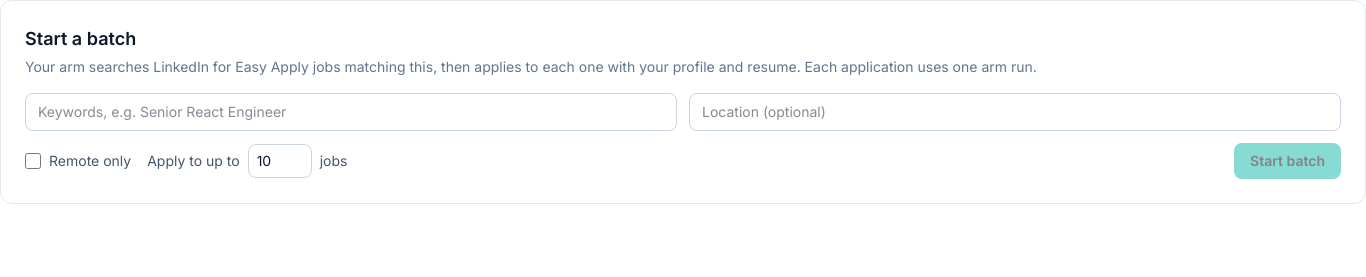
it: starting a batch › falls back to a generic message when the refusal has no hint (or no reply)
Type "react engineer" into the field named "Search keywords" at (351, 112), box [25, 93, 677, 131]
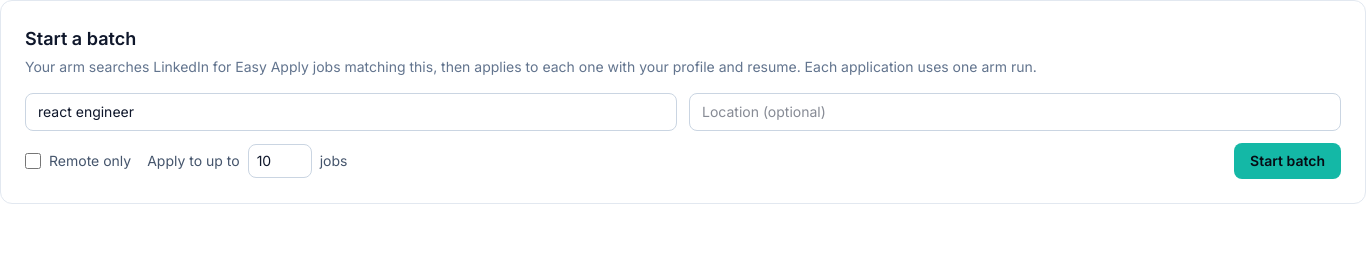
Click the button "Start batch" at (1288, 161), box [1234, 143, 1341, 179]
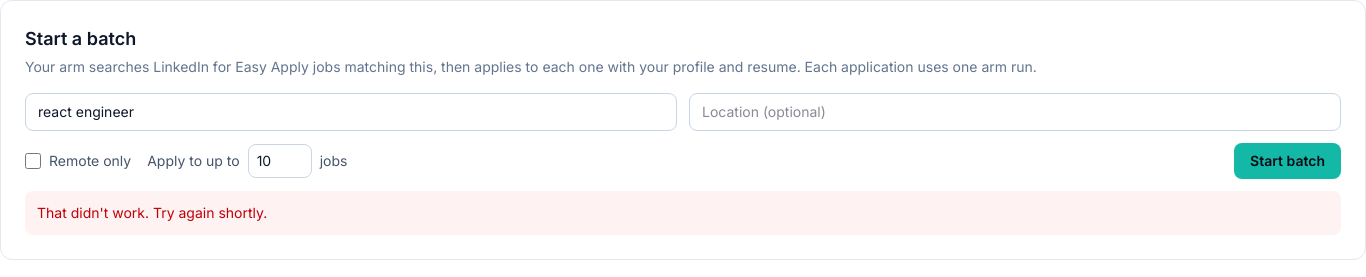
Expected: the text "That didn't work. Try again shortly." is shown, [25, 191, 1341, 235]
